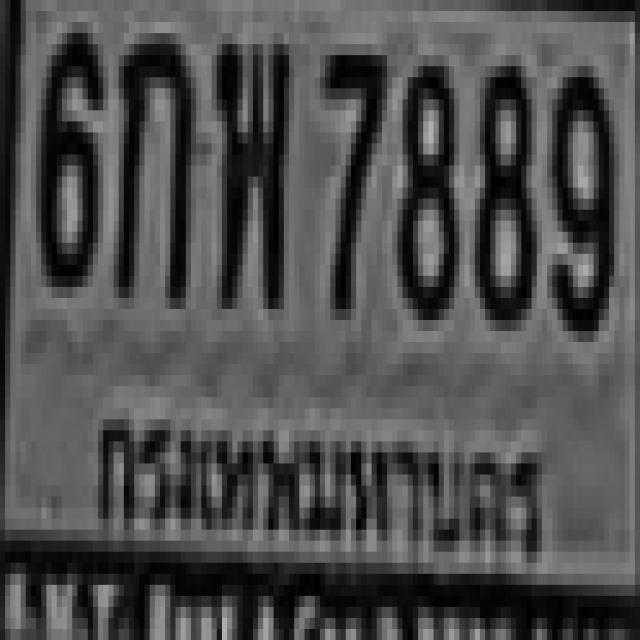10GorGai: (108, 22, 191, 298)
39PhorPan: (211, 28, 284, 292)
6: (36, 22, 98, 276)
7: (320, 39, 382, 304)
8: (469, 55, 532, 320), (392, 44, 454, 309)
9: (547, 55, 609, 331)
Bangkok: (82, 372, 563, 604)
